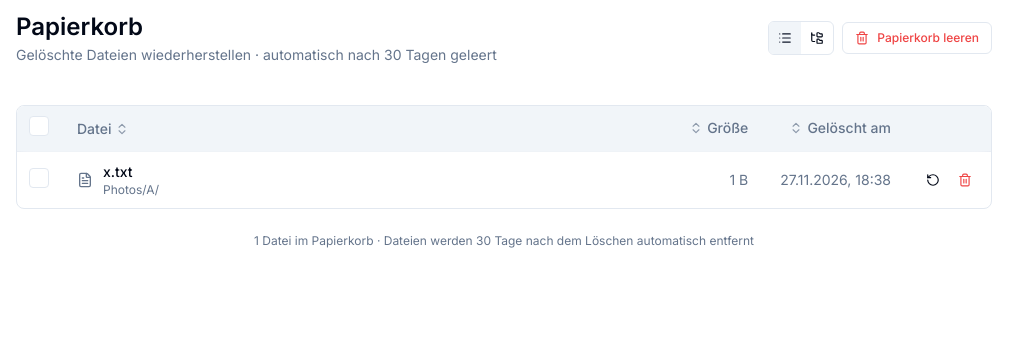
it: TrashPage — Tree-View › Datei-Zeile im Tree hat Restore- und Purge-Action-Buttons
Click the button named "Ordneransicht". click: click(817, 38)
box: [801,22,833,54]
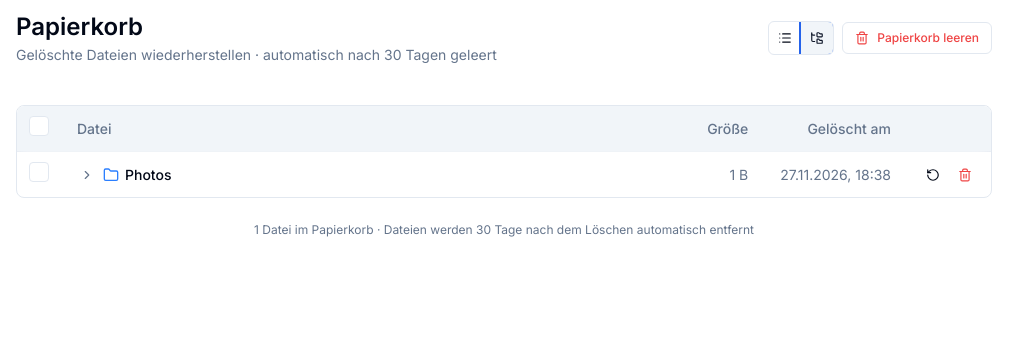
Click the button named "Aufklappen". click: click(87, 174)
box: [77,164,97,184]
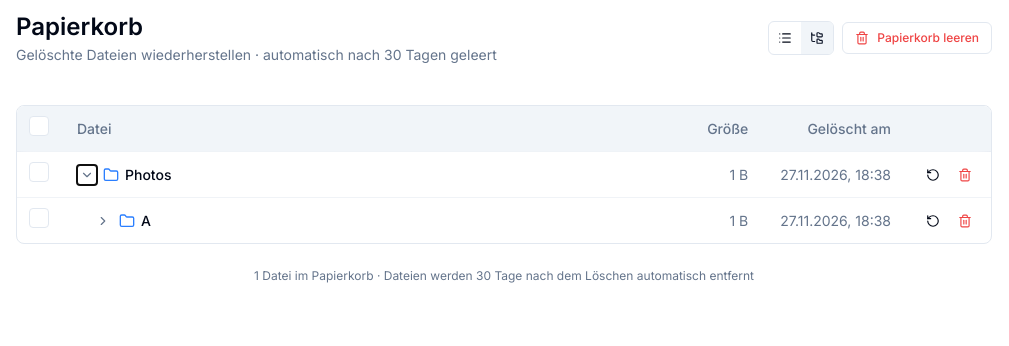
Click the button named "Aufklappen". click: click(103, 220)
box: [93,210,113,230]
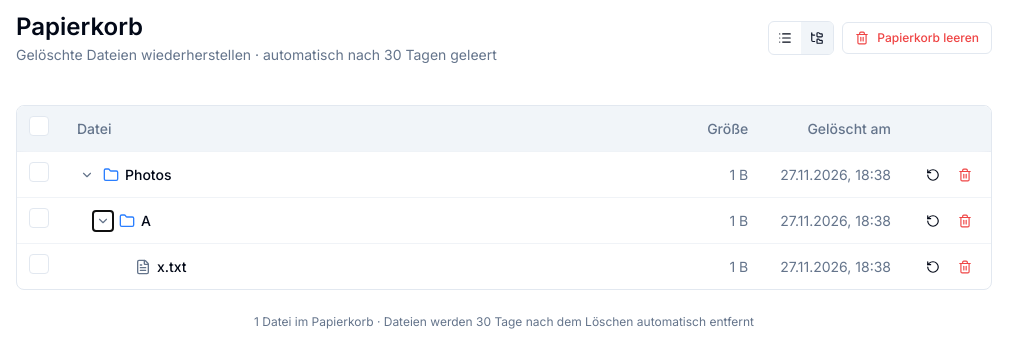
Expected: the button named "Wiederherstellen" in the row of "x.txt" is shown, [919,252,947,280]
Expected: the button named "Endgültig löschen" in the row of "x.txt" is shown, [951,252,979,280]
